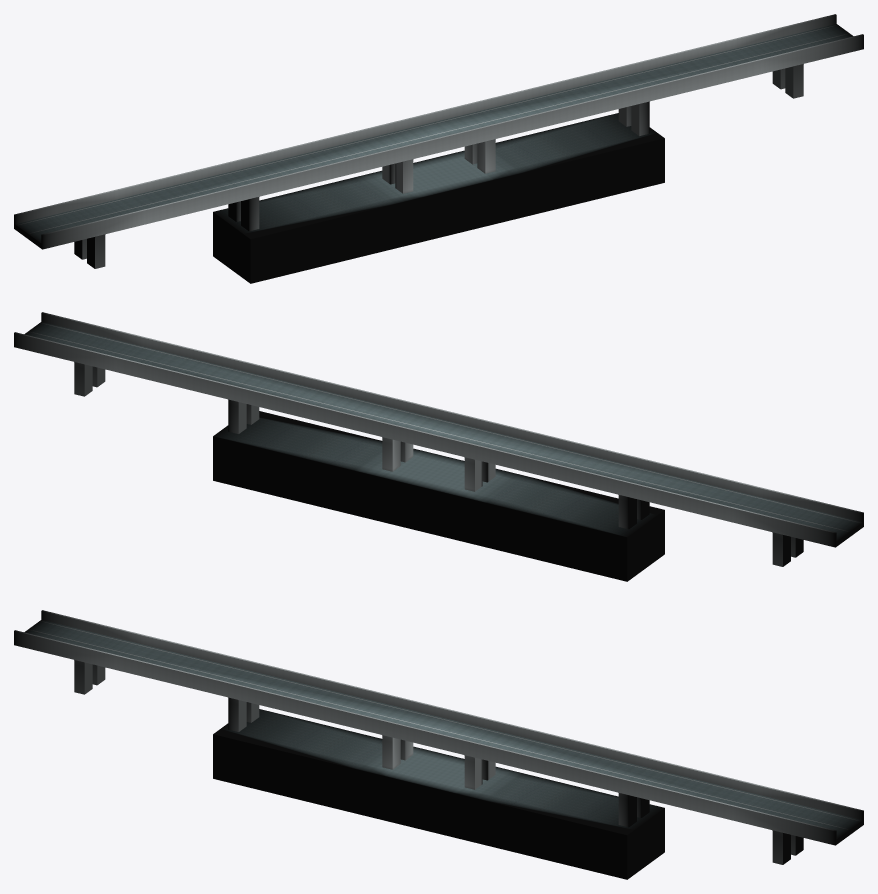
Rendered from KOUKA_CAR04.glb.
3 renders of one model, top to bottom at view 1: azimuth 30°, elevation 25°; view 2: azimuth 150°, elevation 25°; view 3: azimuth 330°, elevation 25°, orthographic.
Parts seen in each view (by area): view 1: FRAME_ROOT; view 2: FRAME_ROOT; view 3: FRAME_ROOT.
Boxes of the visible parts, x1,y1,x2,y2 form: FRAME_ROOT: [14, 14, 863, 283]; FRAME_ROOT: [14, 312, 863, 581]; FRAME_ROOT: [14, 610, 863, 879].
Size of the model in its own units: 800 by 88.27 by 63.28.
Materials: 3 (2 with a texture image).
